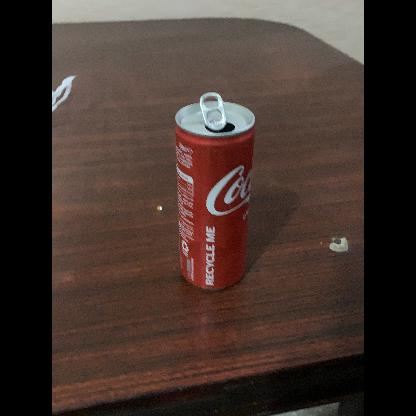Lid_Open: (192, 86, 240, 136)
Tin_Can: (171, 93, 259, 295)
